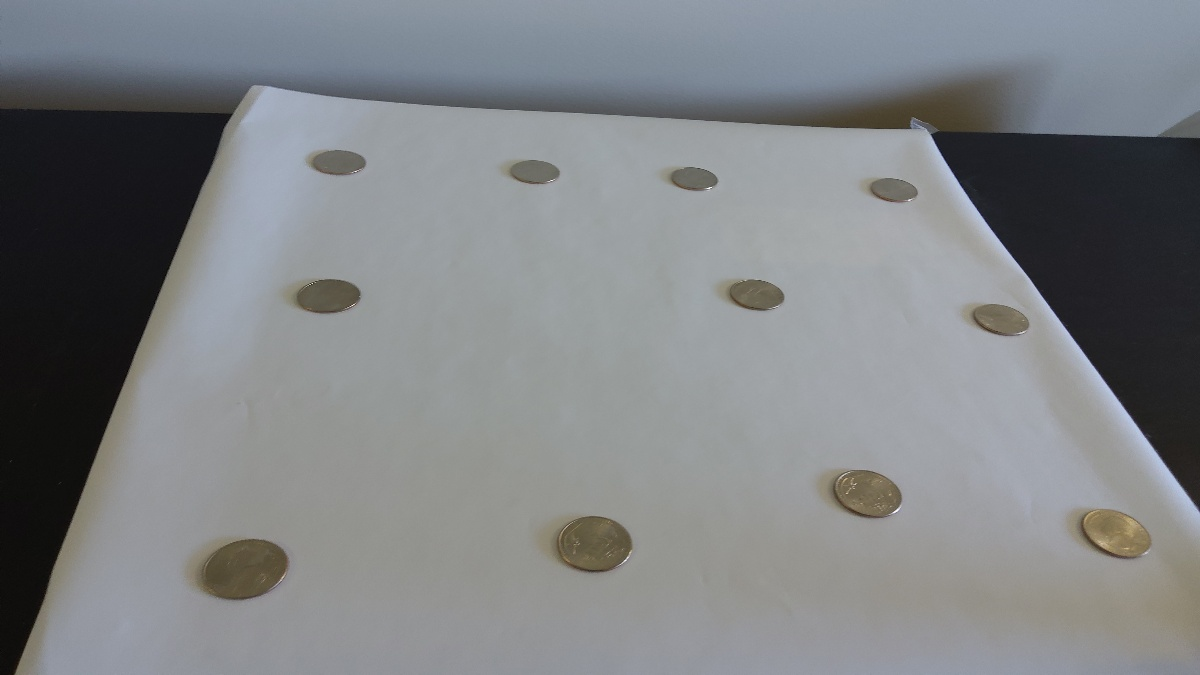coin_quarter: (193, 529, 299, 604), (821, 455, 912, 530), (547, 507, 642, 578), (1073, 497, 1160, 570), (290, 275, 374, 321), (963, 297, 1040, 347), (720, 271, 794, 320), (862, 171, 926, 208), (504, 153, 564, 191), (667, 158, 724, 198), (308, 145, 373, 179)
